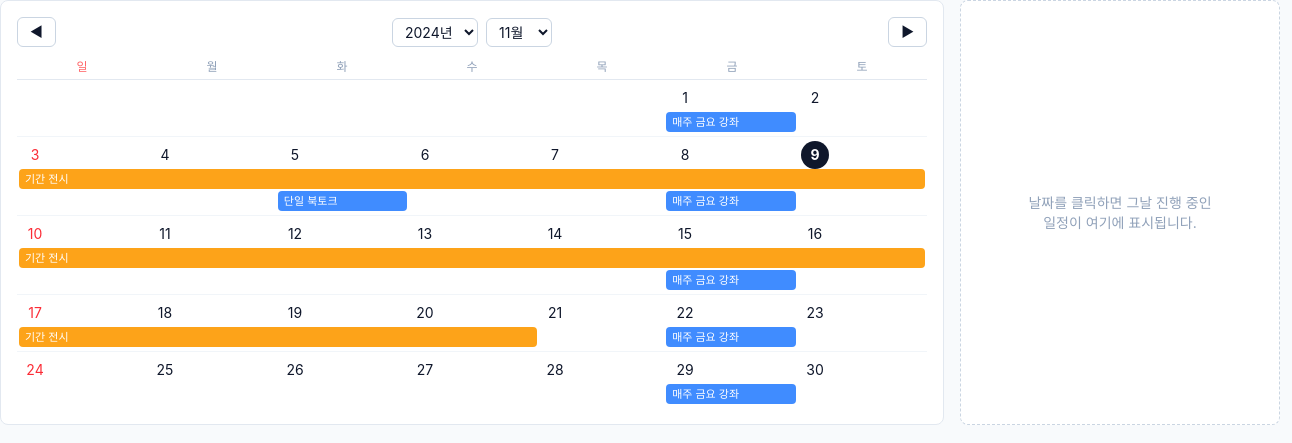
Test: CalendarView — F4~F7 › 날짜 클릭 → 그날 진행 중 일정 패널 (F5, 기간 포함)
The image size is (1292, 443).
Click the button named "2024-11-08 일정 보기": (685, 155) [671,141,699,169]
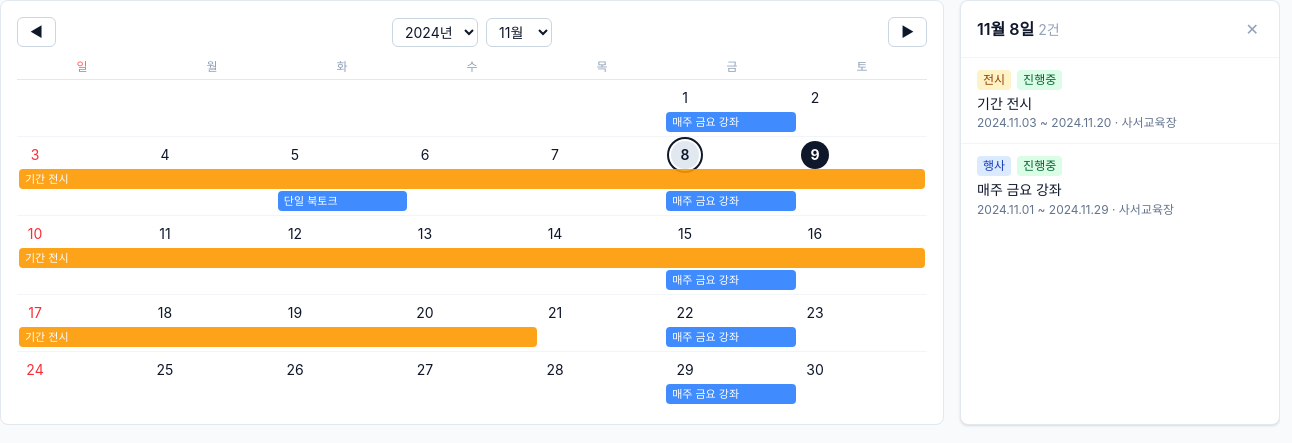
Expected: the text "기간 전시" is shown, [977,95,1032,112]
Expected: the text "매주 금요 강좌" is shown, [977,181,1062,198]
